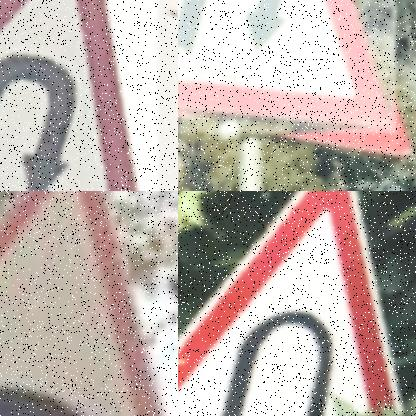U-Turn: (178, 191, 406, 416), (178, 0, 396, 133)
